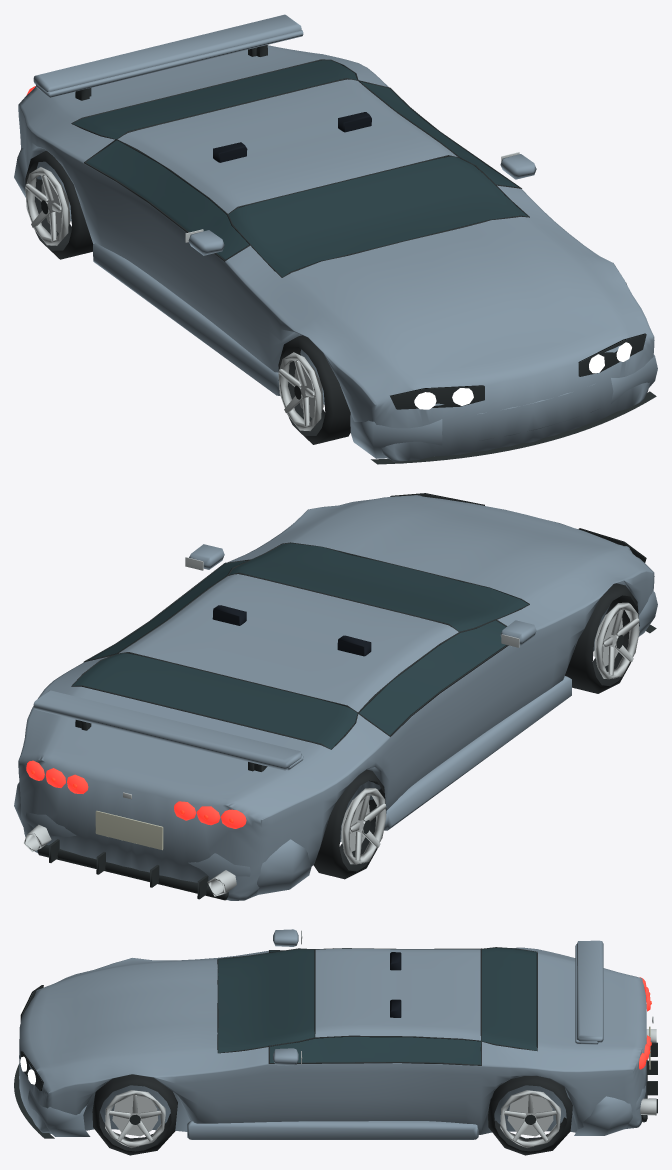
File: veylune-isvyl.glb
3 views of the same model, one above another, from view 1: azimuth 30°, elevation 25°; view 2: azimuth 150°, elevation 25°; view 3: azimuth 270°, elevation 25° (orthographic). The views are drawn at different scales.
Visible parts, largest first — view 1: scocca, cofano, tetto, cristallo_ant, porta_sx, portellone, cristallo_post, cristallo_sx, spoiler, minigonna_sx, ruota_ant_sx_gomma, paraurti_ant (+15 smaller); view 2: scocca, tetto, cofano, portellone, cristallo_post, cristallo_ant, porta_sx, spoiler, cristallo_sx, minigonna_sx, paraurti_post, ruota_ant_sx_gomma (+12 smaller); view 3: scocca, cofano, tetto, porta_dx, cristallo_ant, portellone, cristallo_post, minigonna_dx, cristallo_dx, spoiler, ruota_ant_dx_gomma, ruota_post_dx_gomma (+14 smaller).
Boxes of the visible parts, x1,y1,x2,y2 form: scocca: [18, 48, 654, 463]; cofano: [283, 216, 627, 381]; tetto: [117, 79, 457, 213]; cristallo_ant: [228, 156, 527, 276]; porta_sx: [84, 164, 240, 344]; portellone: [35, 45, 327, 123]; cristallo_post: [72, 60, 357, 138]; cristallo_sx: [86, 140, 249, 259]; spoiler: [33, 14, 301, 91]; minigonna_sx: [93, 243, 280, 395]; ruota_ant_sx_gomma: [278, 335, 350, 444]; paraurti_ant: [350, 354, 657, 458]; scocca: [18, 495, 654, 900]; tetto: [119, 574, 458, 711]; cofano: [284, 496, 627, 603]; portellone: [35, 686, 330, 809]; cristallo_post: [73, 653, 357, 749]; cristallo_ant: [229, 543, 528, 631]; porta_sx: [386, 638, 532, 810]; spoiler: [33, 690, 301, 770]; cristallo_sx: [359, 620, 505, 734]; minigonna_sx: [384, 676, 571, 830]; paraurti_post: [14, 782, 311, 894]; ruota_ant_sx_gomma: [565, 583, 639, 693]; scocca: [19, 947, 646, 1134]; cofano: [42, 959, 217, 1072]; tetto: [315, 948, 480, 1040]; porta_dx: [253, 1063, 481, 1134]; cristallo_ant: [218, 949, 314, 1052]; portellone: [537, 952, 646, 1054]; cristallo_post: [481, 948, 536, 1050]; minigonna_dx: [187, 1121, 478, 1139]; cristallo_dx: [270, 1037, 480, 1064]; spoiler: [576, 940, 603, 1042]; ruota_ant_dx_gomma: [92, 1074, 177, 1155]; ruota_post_dx_gomma: [488, 1076, 572, 1155].
Size of the model in its own units: 2.38 by 1.01 by 5.09.
